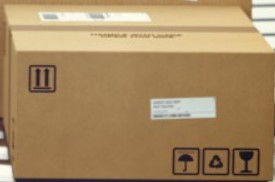stock: (4, 4, 275, 180)
